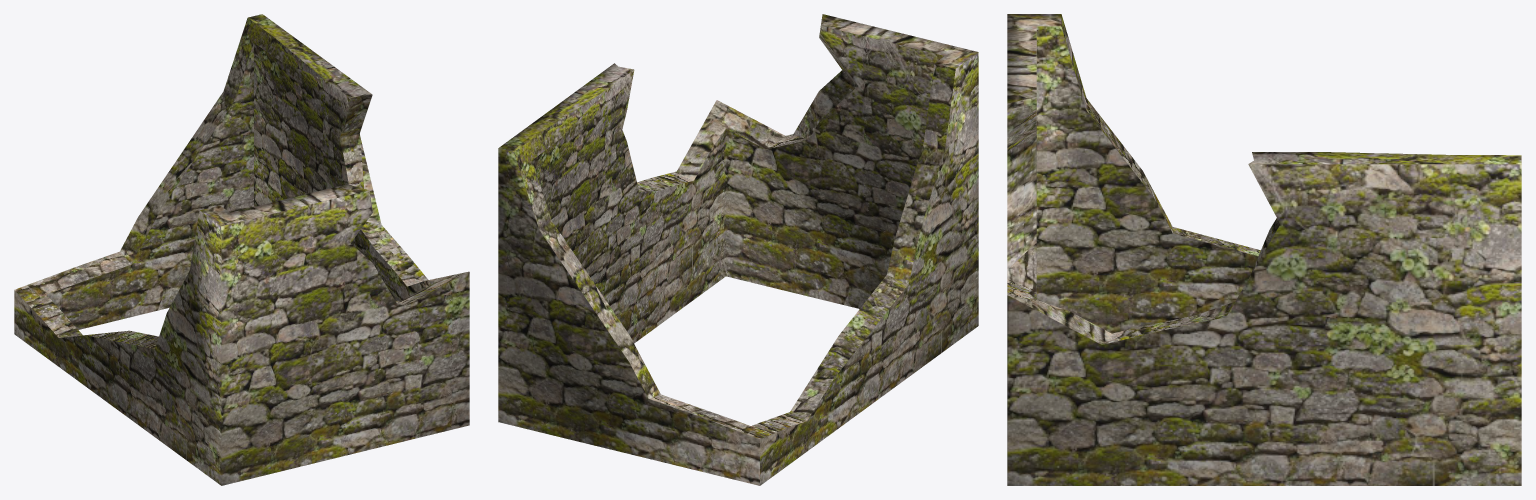
File: Deco.RuinB.fbx
3 views of the same model, side by side, from view 1: azimuth 30°, elevation 25°; view 2: azimuth 150°, elevation 25°; view 3: azimuth 270°, elevation 25° (orthographic). The views are drawn at different scales.
Visible parts, largest first — view 1: Ruin.2; view 2: Ruin.2; view 3: Ruin.2.
Boxes of the visible parts, <box> form: Ruin.2: <box>14,14,469,485</box>; Ruin.2: <box>498,14,978,485</box>; Ruin.2: <box>1007,14,1521,485</box>.
Bounding box in the file's own units: 100 × 99.92 × 145.
